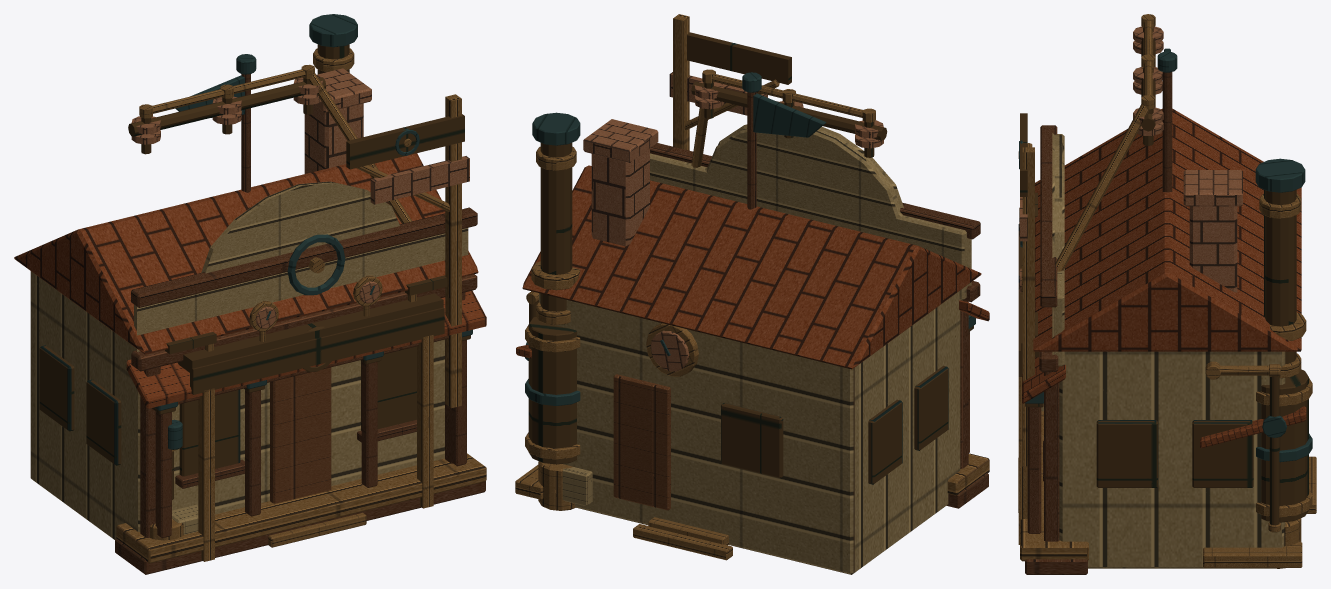
File: claim-office.e4.glb
3 views of the same model, side by side, from view 1: azimuth 30°, elevation 25°; view 2: azimuth 150°, elevation 25°; view 3: azimuth 270°, elevation 25° (orthographic). The views are drawn at different scales.
Parts seen in each view (by area): view 1: ClaimOfficeE4; view 2: ClaimOfficeE4; view 3: ClaimOfficeE4.
Boxes of the visible parts, x1,y1,x2,y2 form: ClaimOfficeE4: (14, 14, 486, 574); ClaimOfficeE4: (515, 14, 989, 574); ClaimOfficeE4: (1018, 14, 1316, 574).
Size of the model in its own units: 4.26 by 5.02 by 3.12.
1 material, 1 textured.
